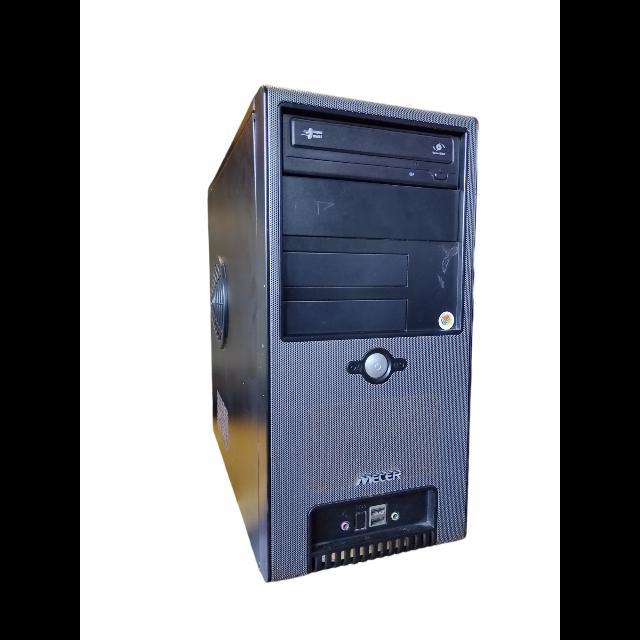Desktop-PC: (196, 77, 497, 585)
